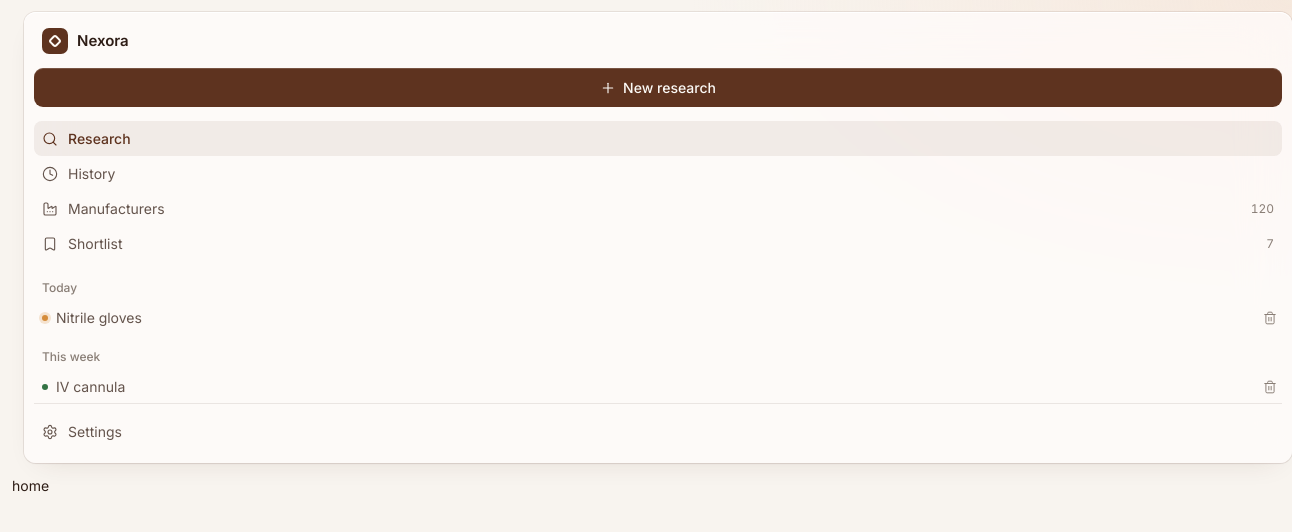
Test: Sidebar delete › shows the 409 message inline
Click the button named "Delete Nitrile gloves": {"x": 1270, "y": 318} [1258,306,1282,330]
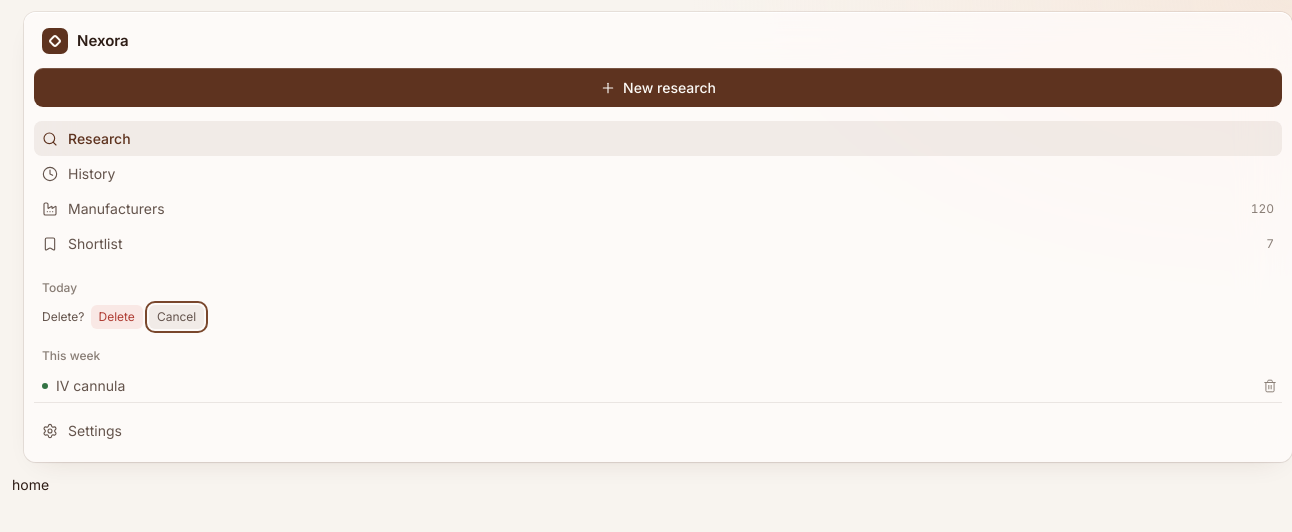
Click the button "Delete": {"x": 117, "y": 317} [90,305,143,329]
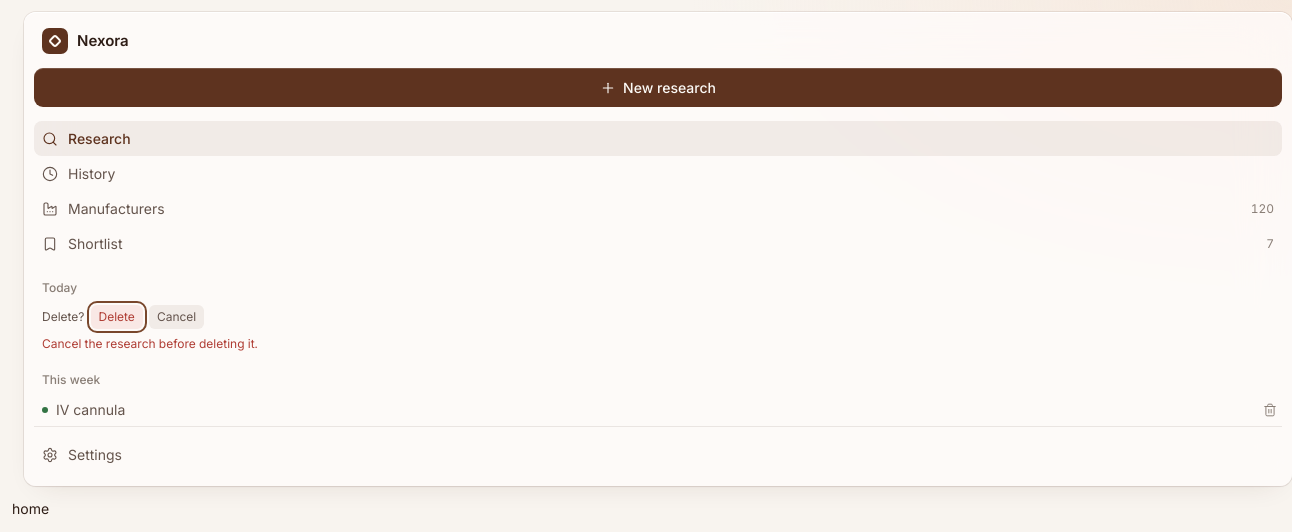
Expected: the message reads "Cancel the research before deleting it.", [42,336,258,351]
